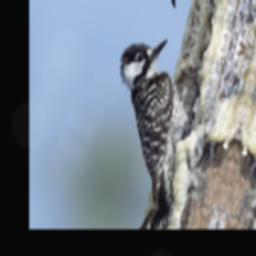Woodpecker: (90, 18, 231, 216)
